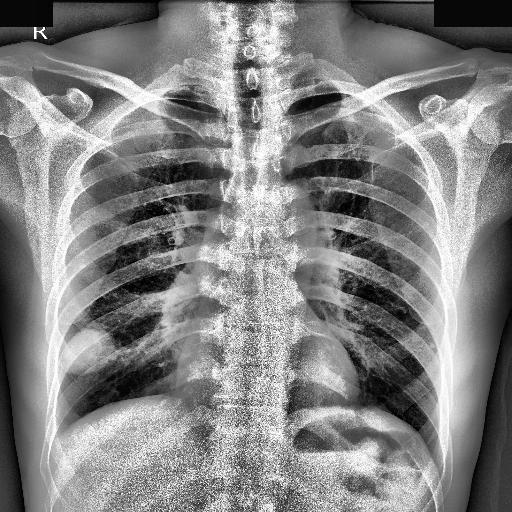0- Aortic enlargement: (257, 182, 315, 264)
7- Lung Opacity: (56, 328, 122, 376)
8- Nodule-Mass: (56, 328, 122, 376), (60, 328, 120, 372), (57, 330, 113, 374)
